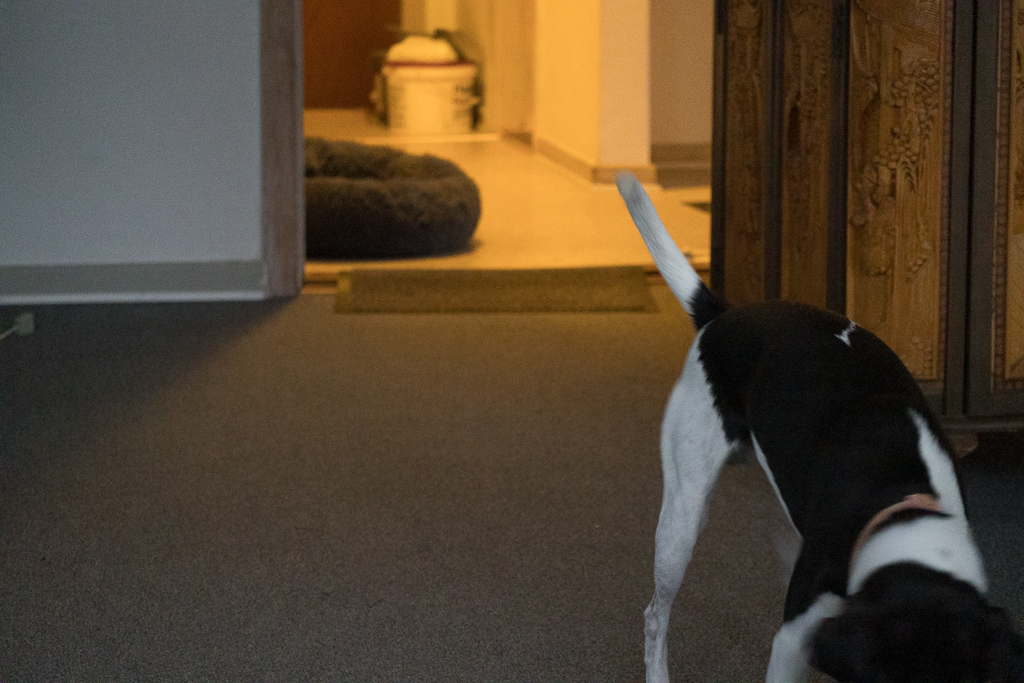Dog: (605, 161, 1024, 683)
